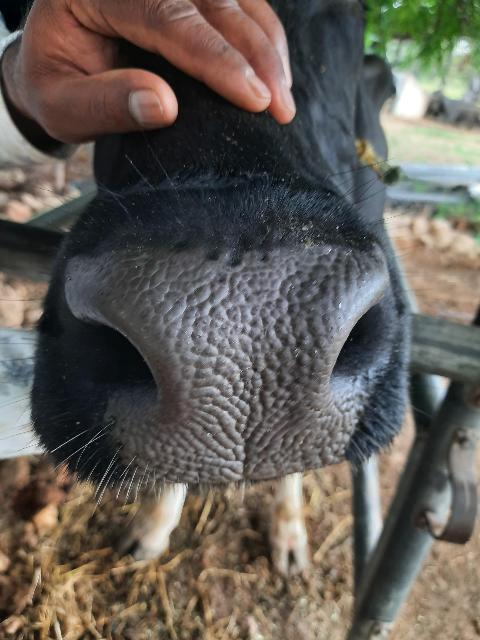Muzzle: (100, 266, 346, 472)
